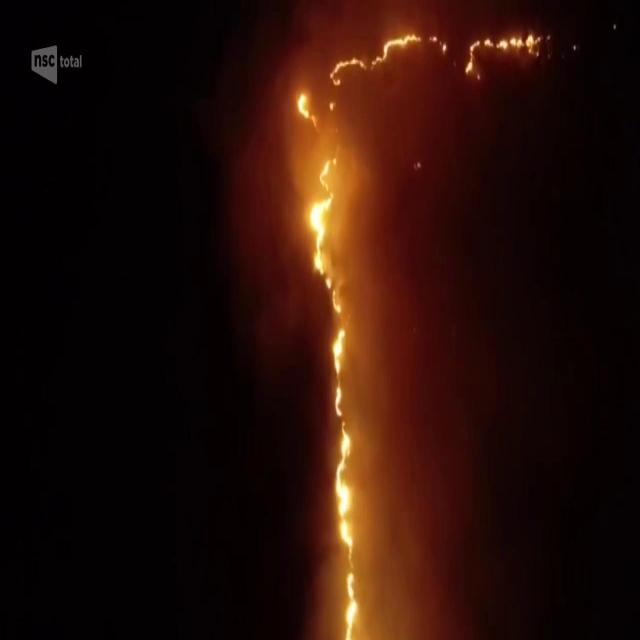Fire: (302, 159, 364, 640), (466, 36, 534, 70), (374, 36, 424, 62), (328, 53, 366, 83), (296, 92, 316, 124)
